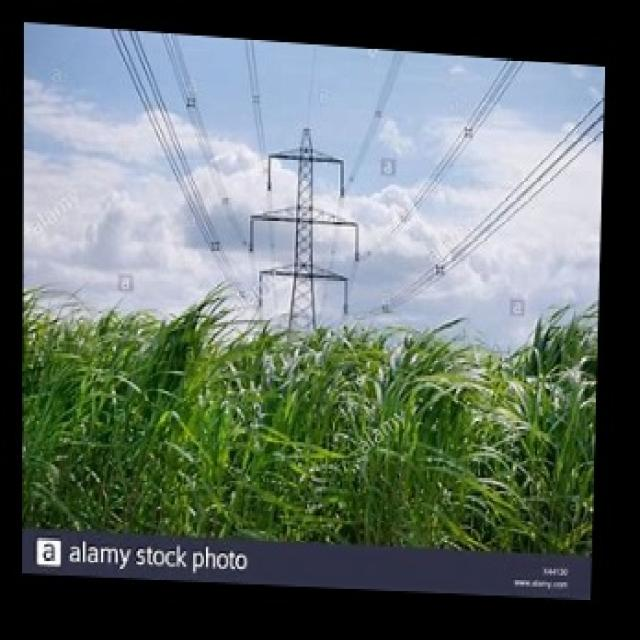utility poles: (255, 101, 356, 539)
